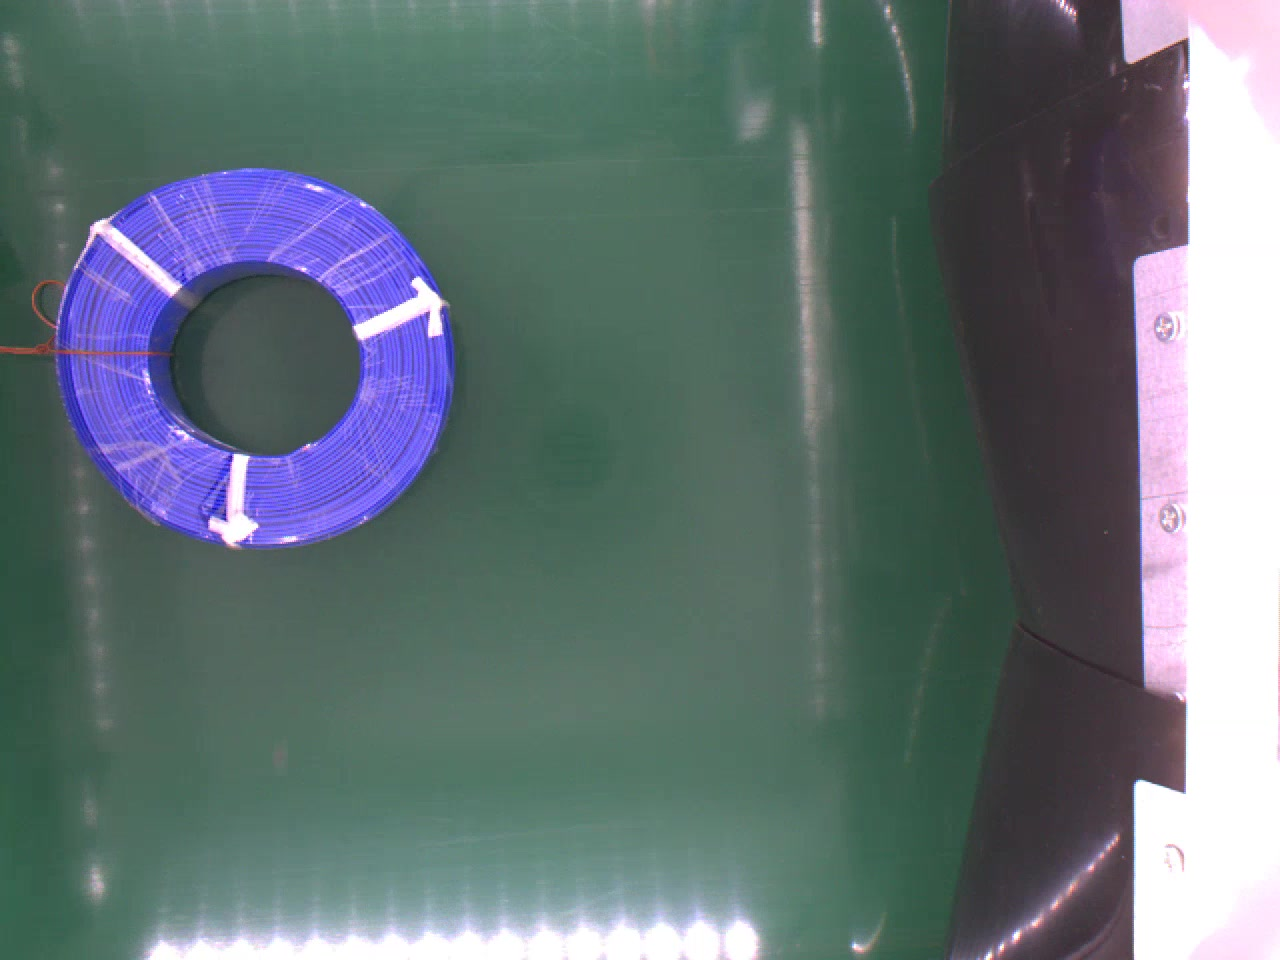blue: (60, 165, 456, 547)
